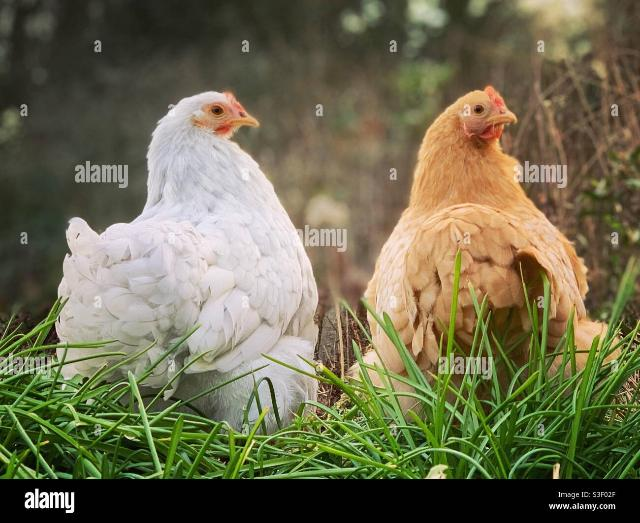Chicken: (55, 90, 323, 430), (347, 88, 624, 411)
